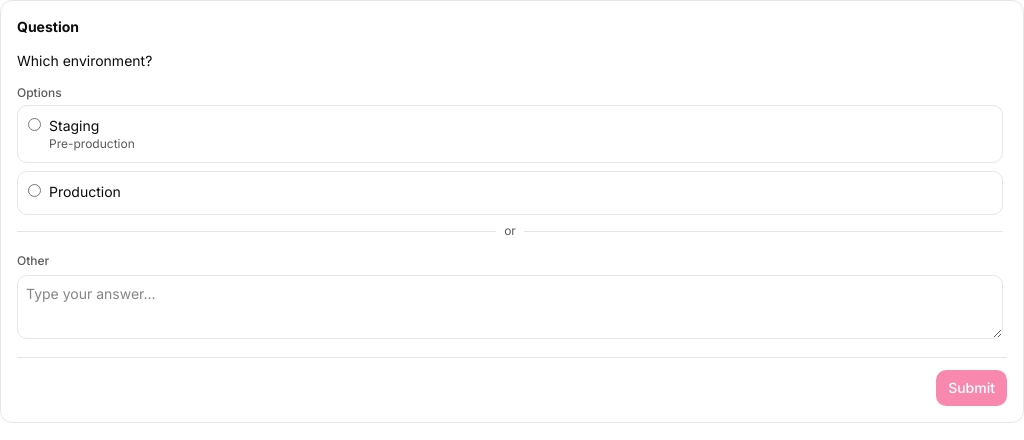
it: QuestionCard › pins the Submit action outside the scrollable body and keeps it focusable
Click the radio button labelled "Staging Pre-production". click: (34, 124)
box: [28, 118, 41, 131]
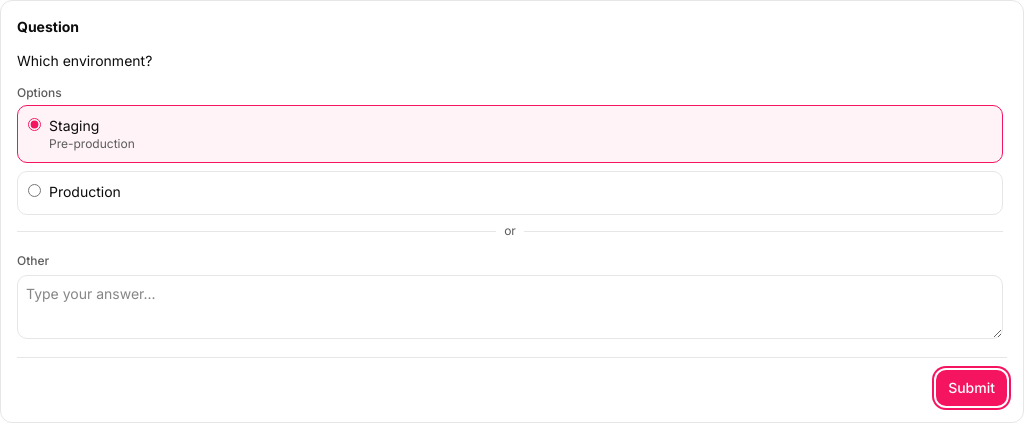
Result: the button "Submit" is enabled at [936, 370, 1007, 406]
